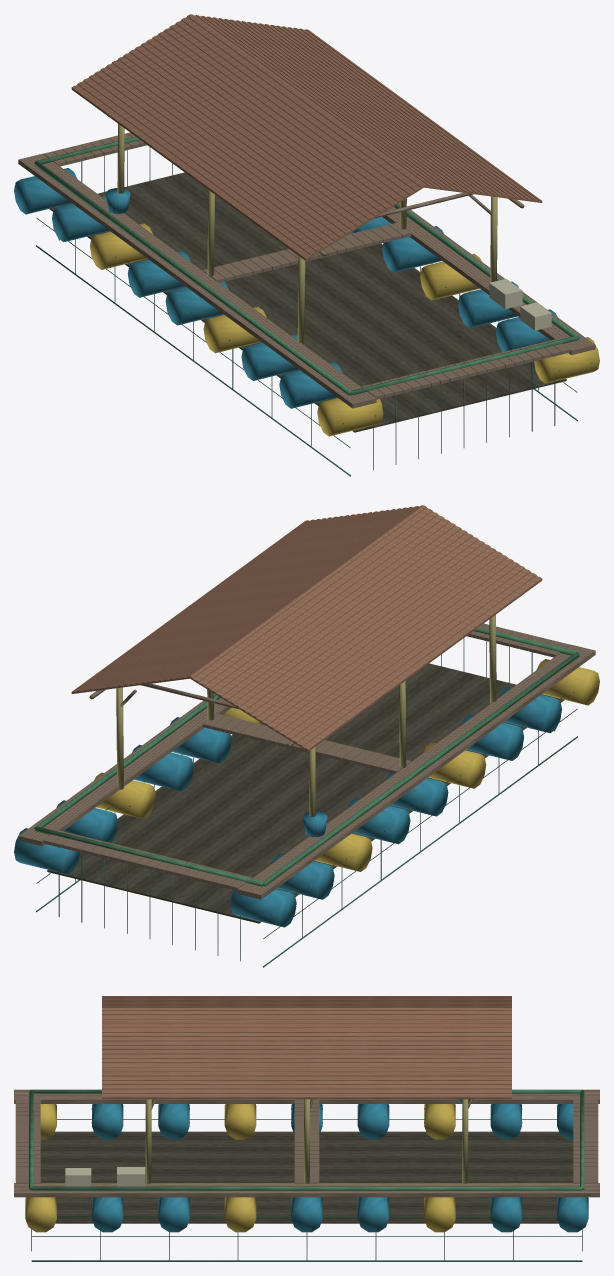
Rendered from bung-raft-3-rust.glb.
The picture shows the model from 3 angles, top to bottom: view 1: azimuth 30°, elevation 25°; view 2: azimuth 150°, elevation 25°; view 3: azimuth 270°, elevation 25°; orthographic projection. The views are drawn at different scales.
Parts seen in each view (by area): view 1: bung-raft-3-rust; view 2: bung-raft-3-rust; view 3: bung-raft-3-rust.
Part boxes in pixels (x1,y1,x2,y2): bung-raft-3-rust: [14, 14, 599, 476]; bung-raft-3-rust: [14, 505, 599, 967]; bung-raft-3-rust: [14, 996, 599, 1261].
Size of the model in its own units: 4.94 by 4.18 by 10.8.
1 material, 1 textured.
